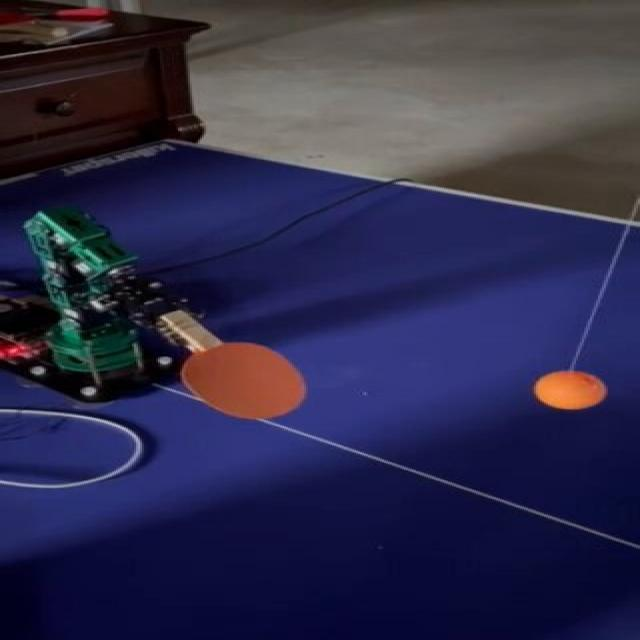ping-pong-ball: (534, 370, 602, 410)
